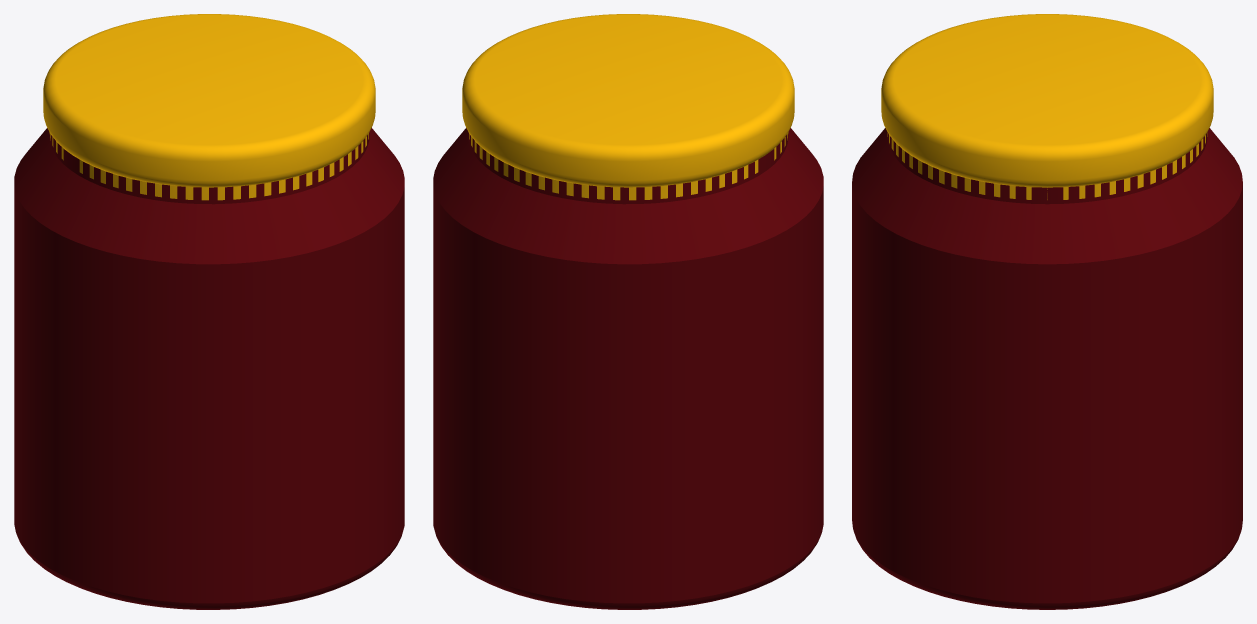
File: jam_jar__4e43eb29aa14.glb
The picture shows the model from 3 angles, left to right: view 1: azimuth 30°, elevation 25°; view 2: azimuth 150°, elevation 25°; view 3: azimuth 270°, elevation 25°; orthographic projection.
Parts seen in each view (by area): view 1: body, lower_rim; view 2: body, lower_rim; view 3: body, lower_rim.
Part boxes in pixels (x1=…): body: x1=14, y1=128, x2=404, y2=609; lower_rim: x1=43, y1=14, x2=375, y2=200; body: x1=433, y1=128, x2=823, y2=609; lower_rim: x1=462, y1=14, x2=794, y2=200; body: x1=852, y1=128, x2=1242, y2=609; lower_rim: x1=881, y1=14, x2=1213, y2=199.
Bounding box in the file's own units: 0.094 × 0.12 × 0.094.
